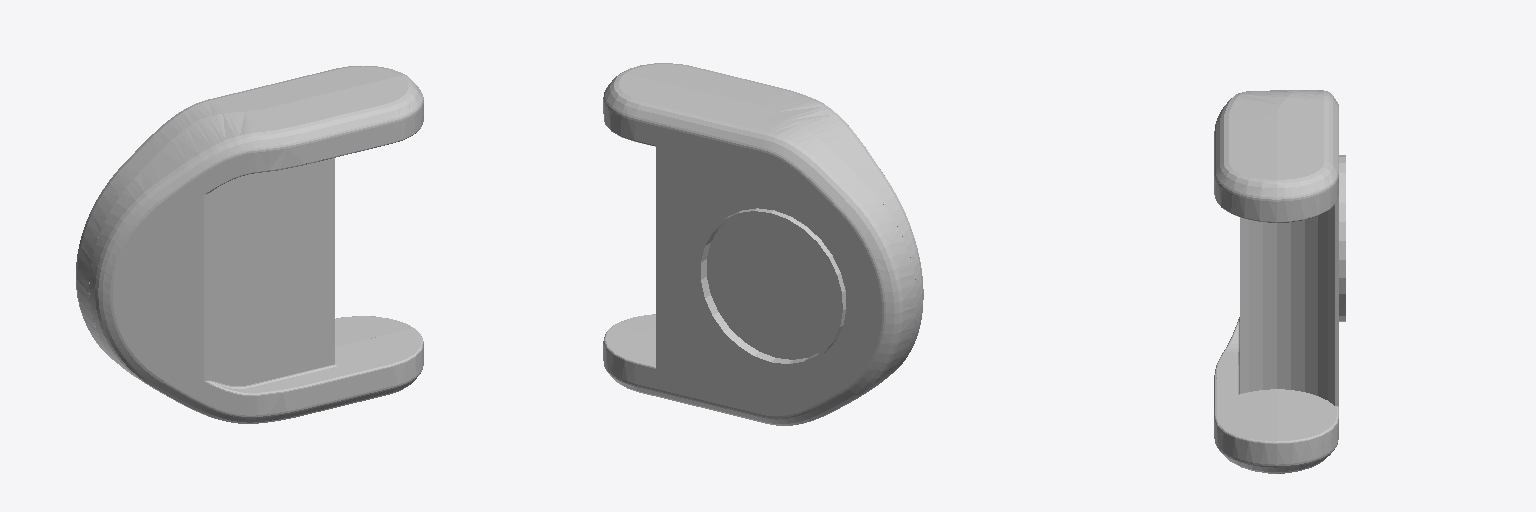
Rendered from head_pan_link.obj.
3 views of the same model, side by side, from view 1: azimuth 30°, elevation 25°; view 2: azimuth 150°, elevation 25°; view 3: azimuth 270°, elevation 25° (orthographic).
Parts seen in each view (by area): view 1: head_pan_link_head pan link.001_Material_001.029; view 2: head_pan_link_head pan link.001_Material_001.029; view 3: head_pan_link_head pan link.001_Material_001.029.
Boxes of the visible parts, box(x1,y1,x2,y2) form: head_pan_link_head pan link.001_Material_001.029: box(76, 66, 423, 423); head_pan_link_head pan link.001_Material_001.029: box(603, 63, 923, 425); head_pan_link_head pan link.001_Material_001.029: box(1214, 90, 1345, 473).
Bounding box in the file's own units: 0.3224 × 0.286 × 0.116.